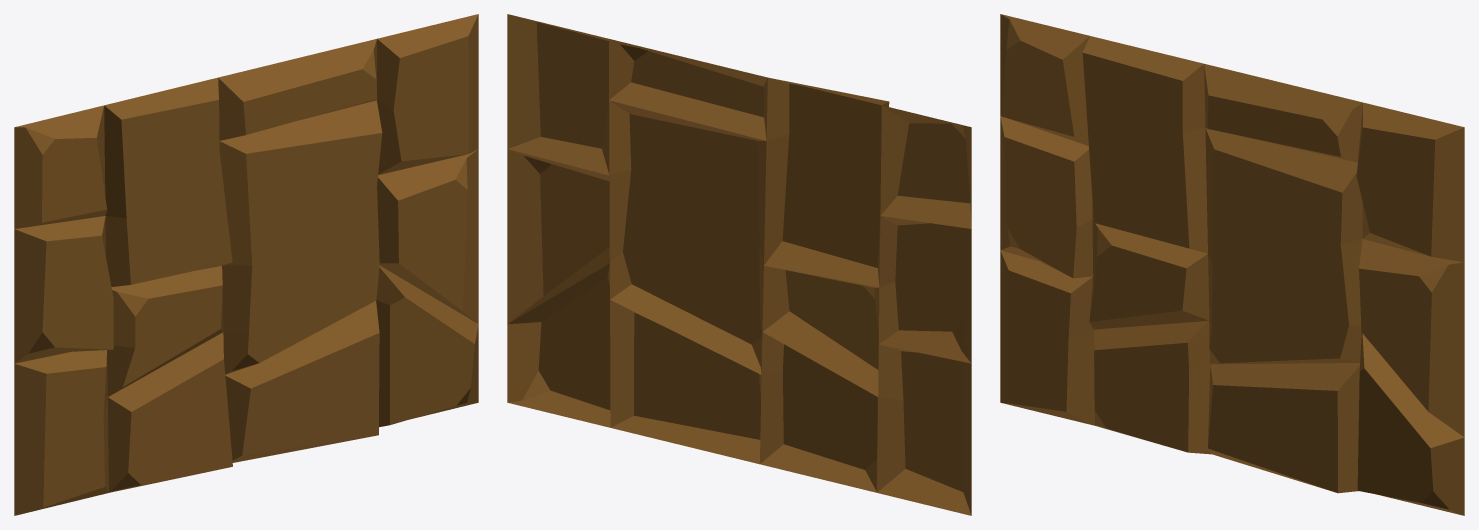
Rendered from Cave_Ground04.fbx.
3 renders of one model, left to right at view 1: azimuth 30°, elevation 25°; view 2: azimuth 150°, elevation 25°; view 3: azimuth 330°, elevation 25°, orthographic.
Parts seen in each view (by area): view 1: Cave_Ground01.004; view 2: Cave_Ground01.004; view 3: Cave_Ground01.004.
Part boxes in pixels (x1=…): Cave_Ground01.004: x1=14, y1=14, x2=478, y2=515; Cave_Ground01.004: x1=507, y1=14, x2=971, y2=515; Cave_Ground01.004: x1=1000, y1=14, x2=1464, y2=515.
Size of the model in its own units: 2645 by 2117 by 152.
